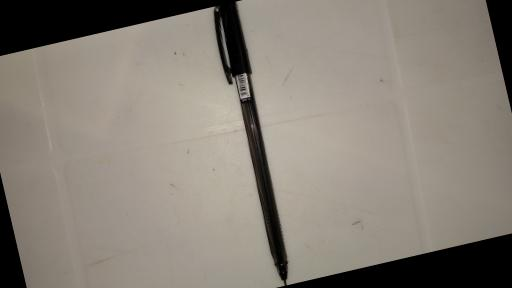pen: (207, 1, 300, 288)
